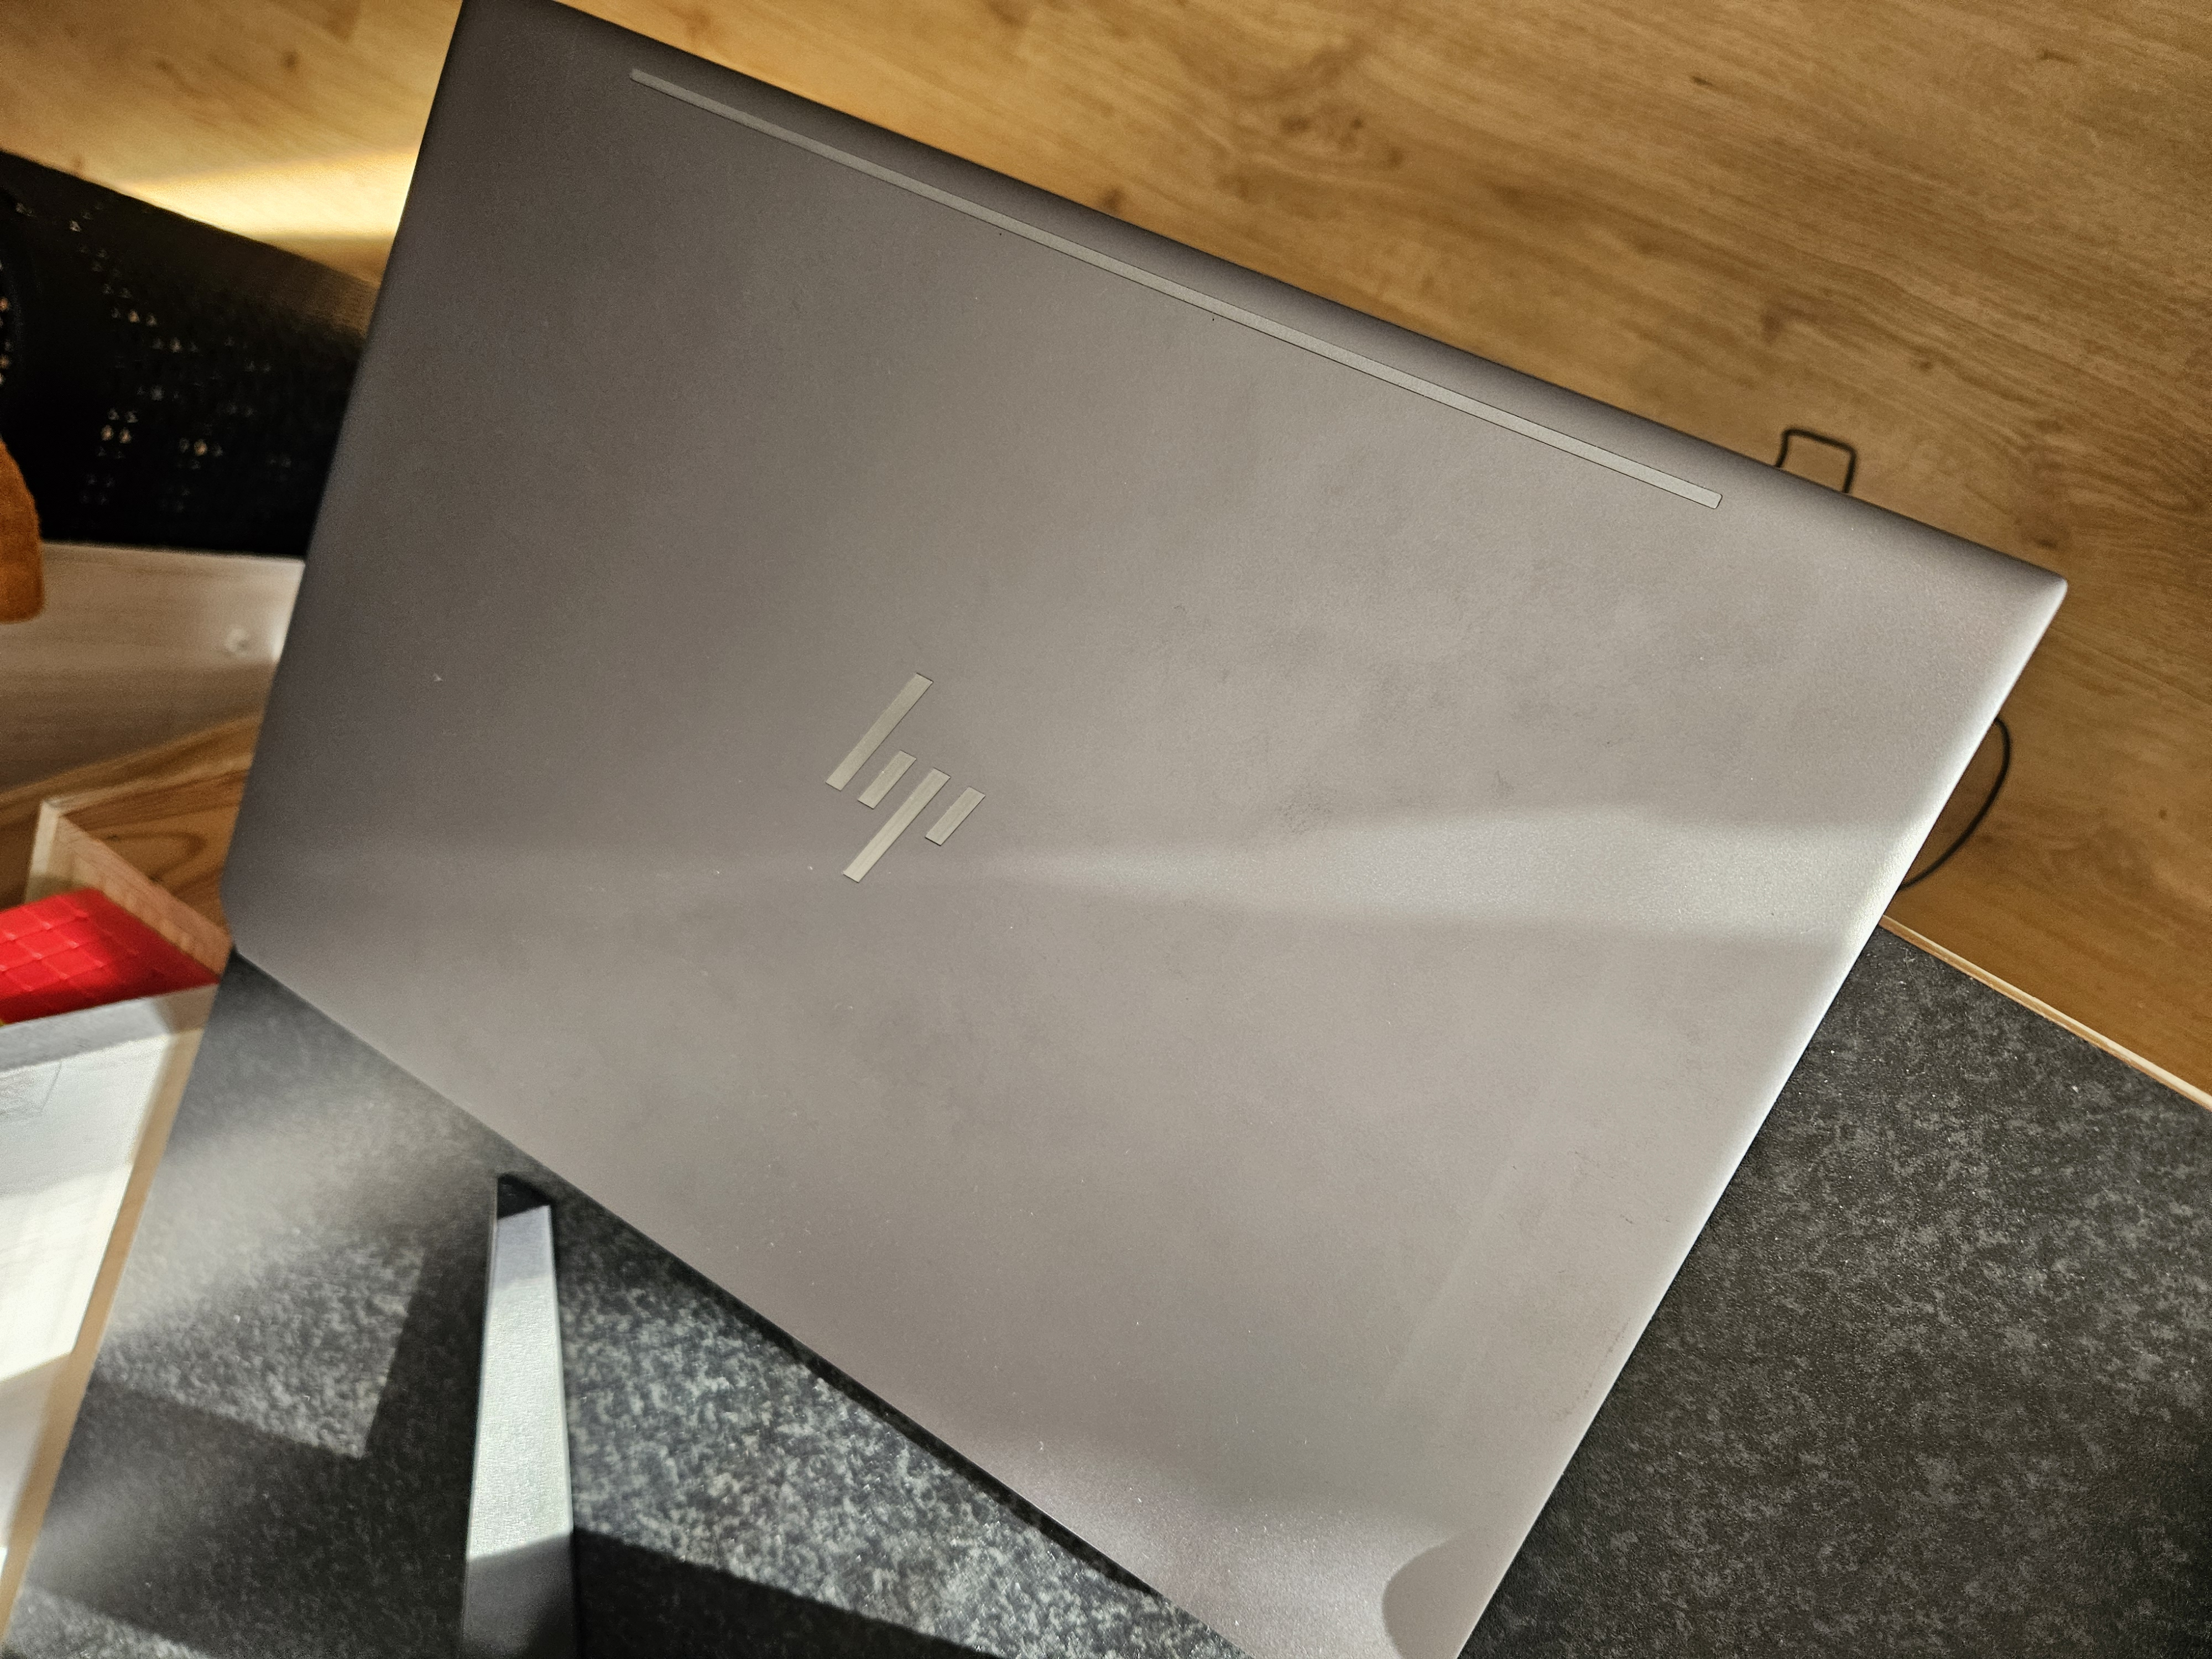laptop: (164, 3, 2137, 1659)
